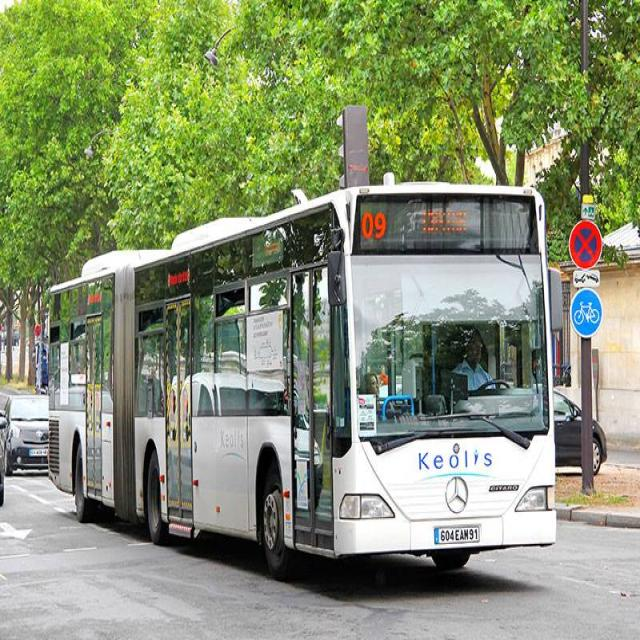Bus: (50, 107, 556, 578)
Car: (2, 395, 47, 476)
